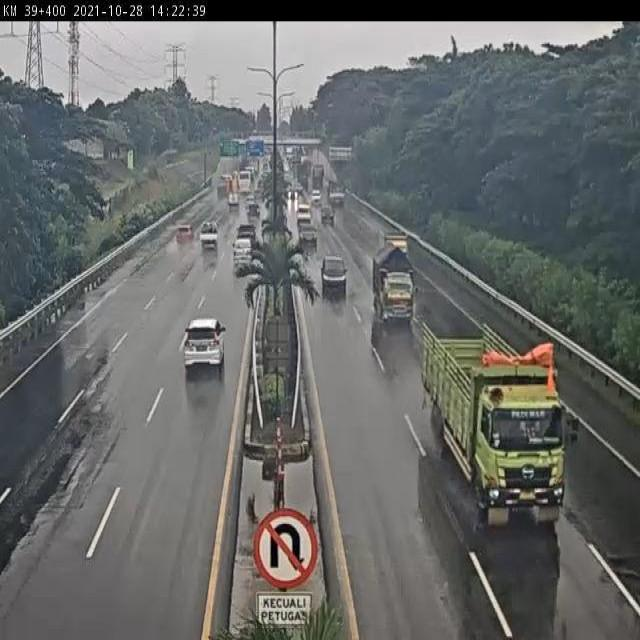truck-l-: (420, 319, 580, 532)
truck-s-: (372, 242, 420, 326)
